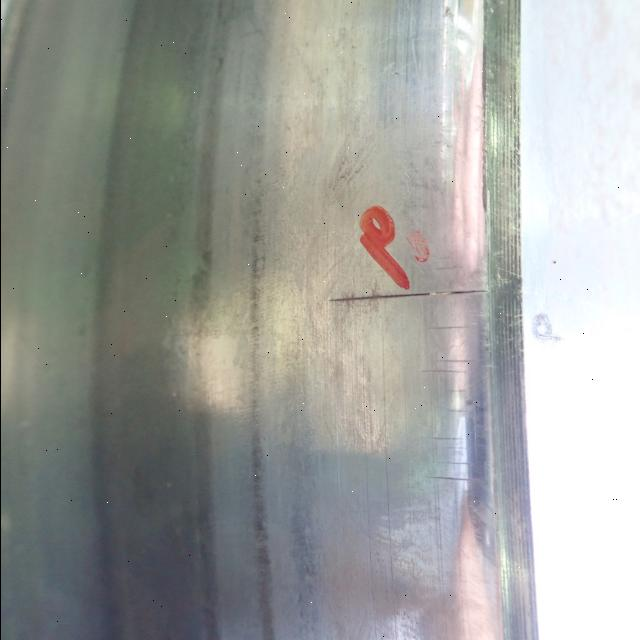hot crack: (322, 279, 492, 309), (416, 352, 484, 382), (421, 472, 474, 486), (428, 432, 474, 444), (421, 321, 473, 331), (430, 458, 480, 466), (432, 406, 478, 414)
